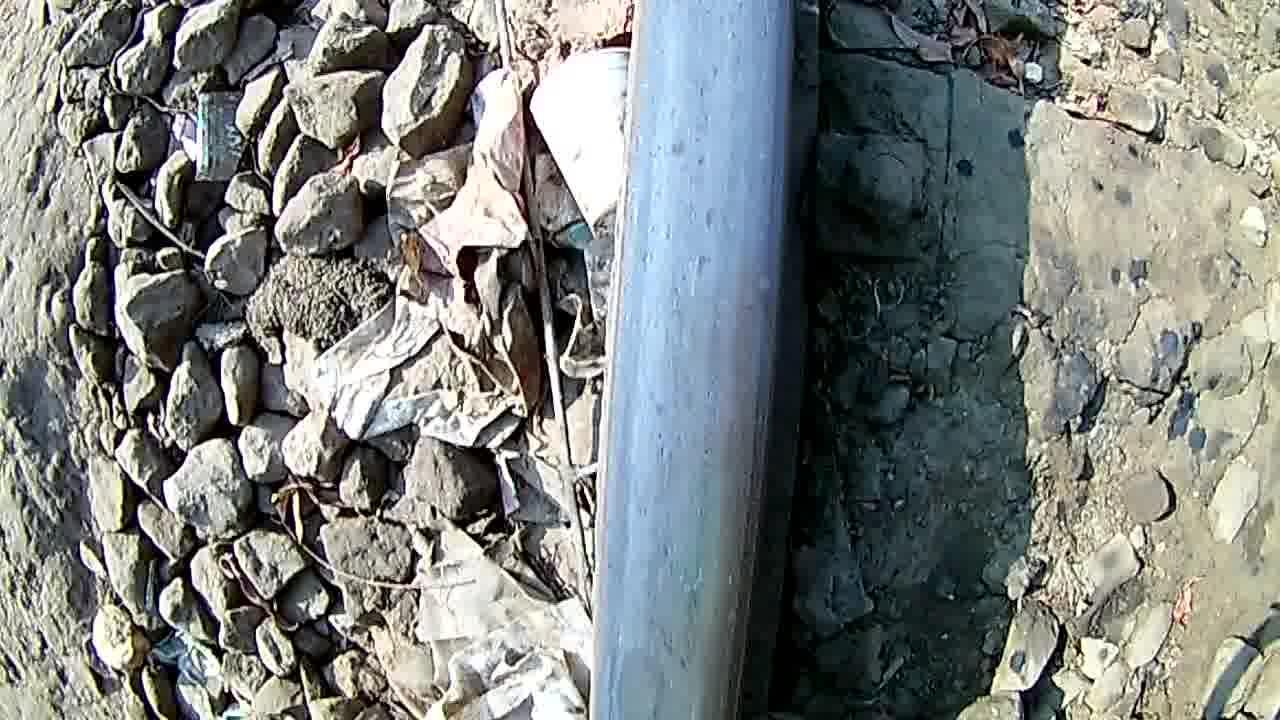bolt_missing: (590, 639, 674, 720)
